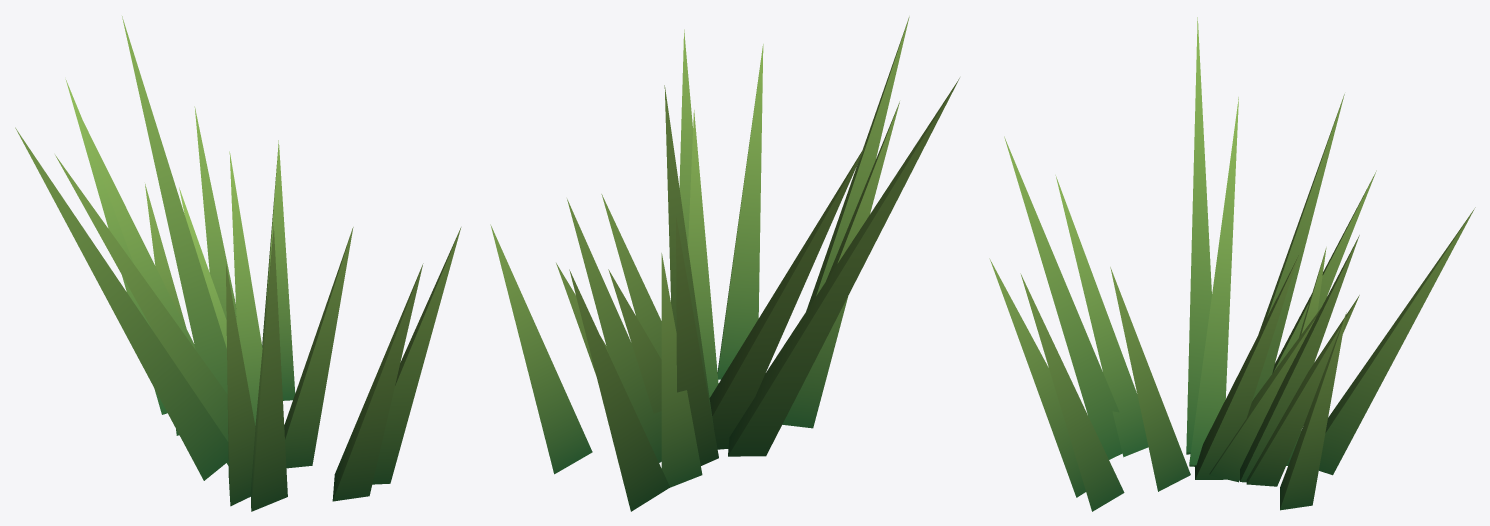
File: grass_tuft.glb
The picture shows the model from 3 angles, left to right: view 1: azimuth 30°, elevation 25°; view 2: azimuth 150°, elevation 25°; view 3: azimuth 270°, elevation 25°; orthographic projection. The views are drawn at different scales.
Parts seen in each view (by area): view 1: Grass; view 2: Grass; view 3: Grass.
Boxes of the visible parts, left/top/right/bottom form: Grass: left=15, top=16, right=461, bottom=511; Grass: left=490, top=16, right=959, bottom=511; Grass: left=989, top=17, right=1475, bottom=511.
Size of the model in its own units: 0.4891 by 0.54 by 0.6484.
